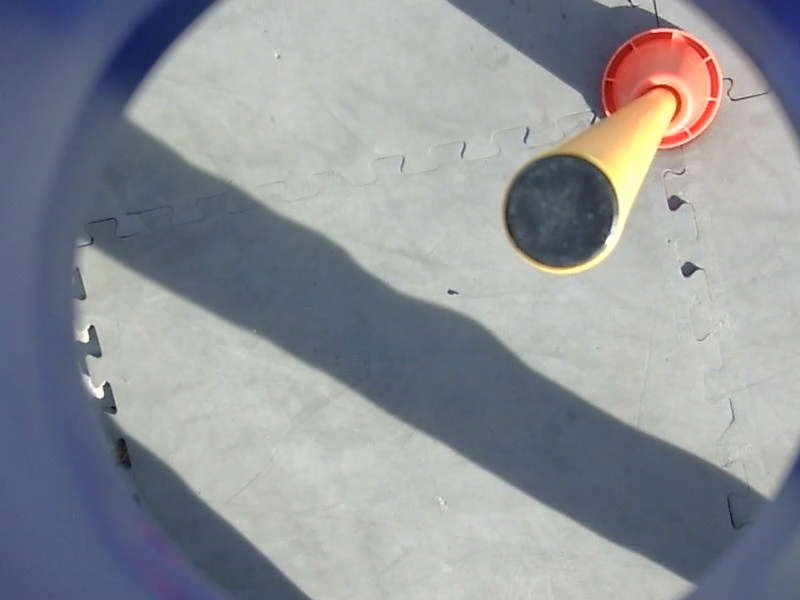tip: (497, 146, 629, 281)
